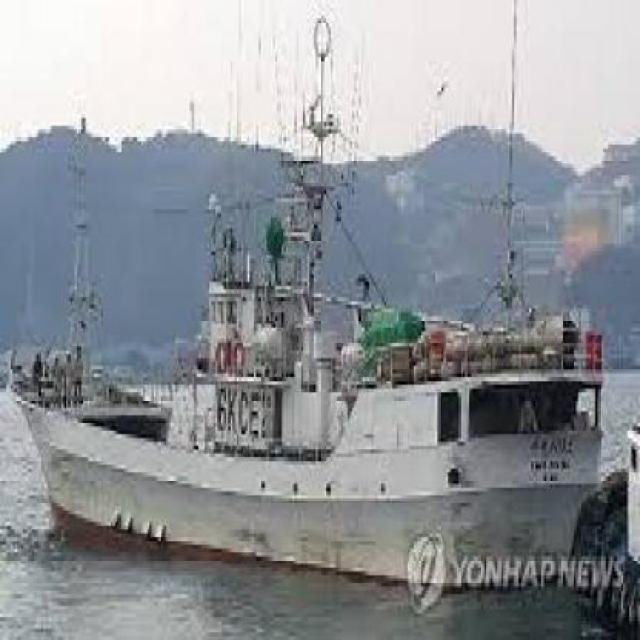fish-b: (1, 42, 627, 615)
